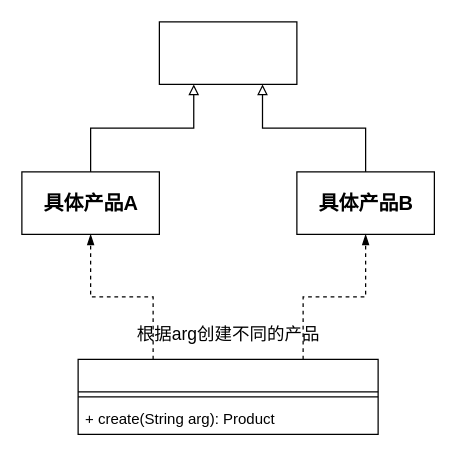
Some shapes in this 456 by 460 pixel diagram are drawn without their labels. Here are the shapes that lost their labels. From the top down, the box of each, then its label:
(158, 21, 297, 84): Product (抽象类/接口)
(77, 358, 378, 434): Factory
